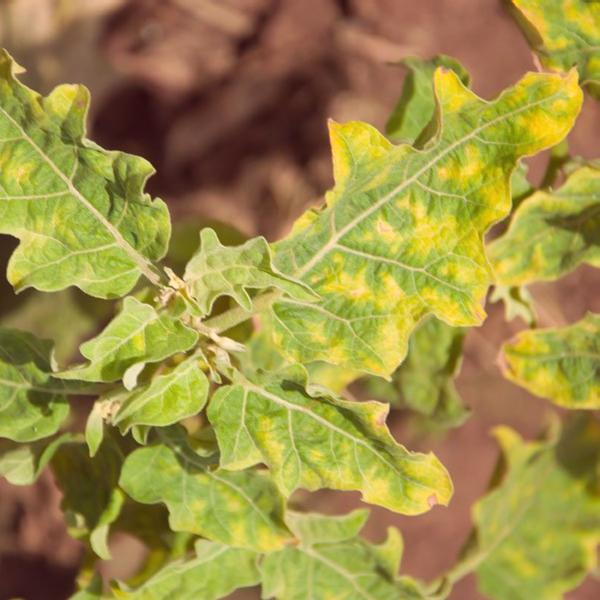Tomato leaf mosaic virus: (246, 67, 588, 377), (195, 365, 465, 521), (6, 63, 164, 322), (61, 290, 191, 395), (176, 237, 322, 317)
